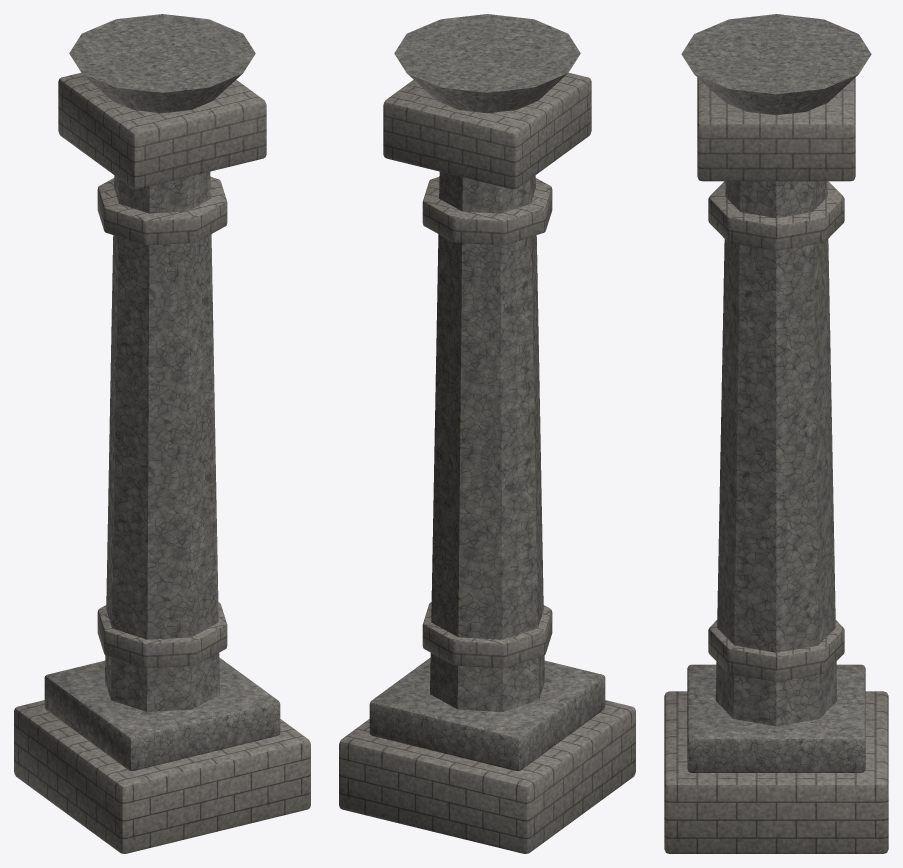
The model's file is pillar.gltf.
3 renders of one model, left to right at view 1: azimuth 30°, elevation 25°; view 2: azimuth 150°, elevation 25°; view 3: azimuth 270°, elevation 25°, orthographic.
Parts seen in each view (by area): view 1: PillarMesh; view 2: PillarMesh; view 3: PillarMesh.
Boxes of the visible parts, x1=… form: PillarMesh: x1=14, y1=14, x2=310, y2=853; PillarMesh: x1=339, y1=14, x2=635, y2=853; PillarMesh: x1=664, y1=14, x2=888, y2=853.
Size of the model in its own units: 1.7 by 6.3 by 1.7.
Materials: 2 (2 with a texture image).
